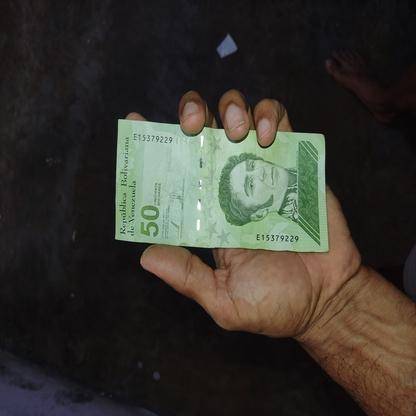fifty-front-vef: (113, 118, 328, 252)
